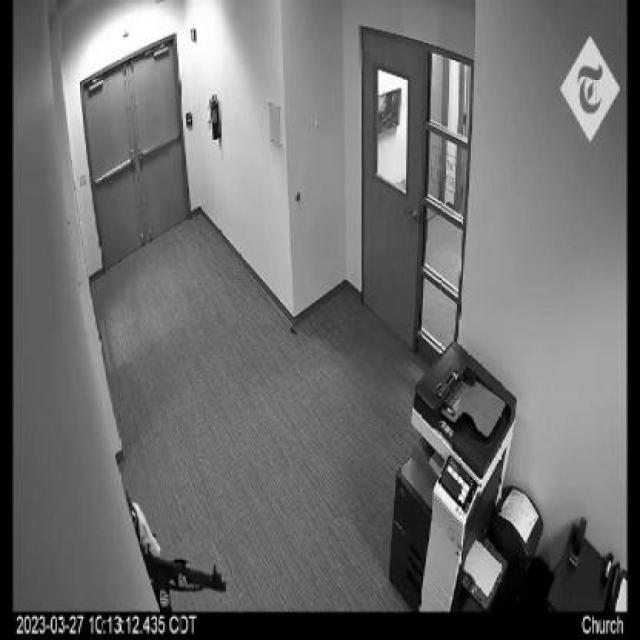weapon: (140, 549, 228, 612)
